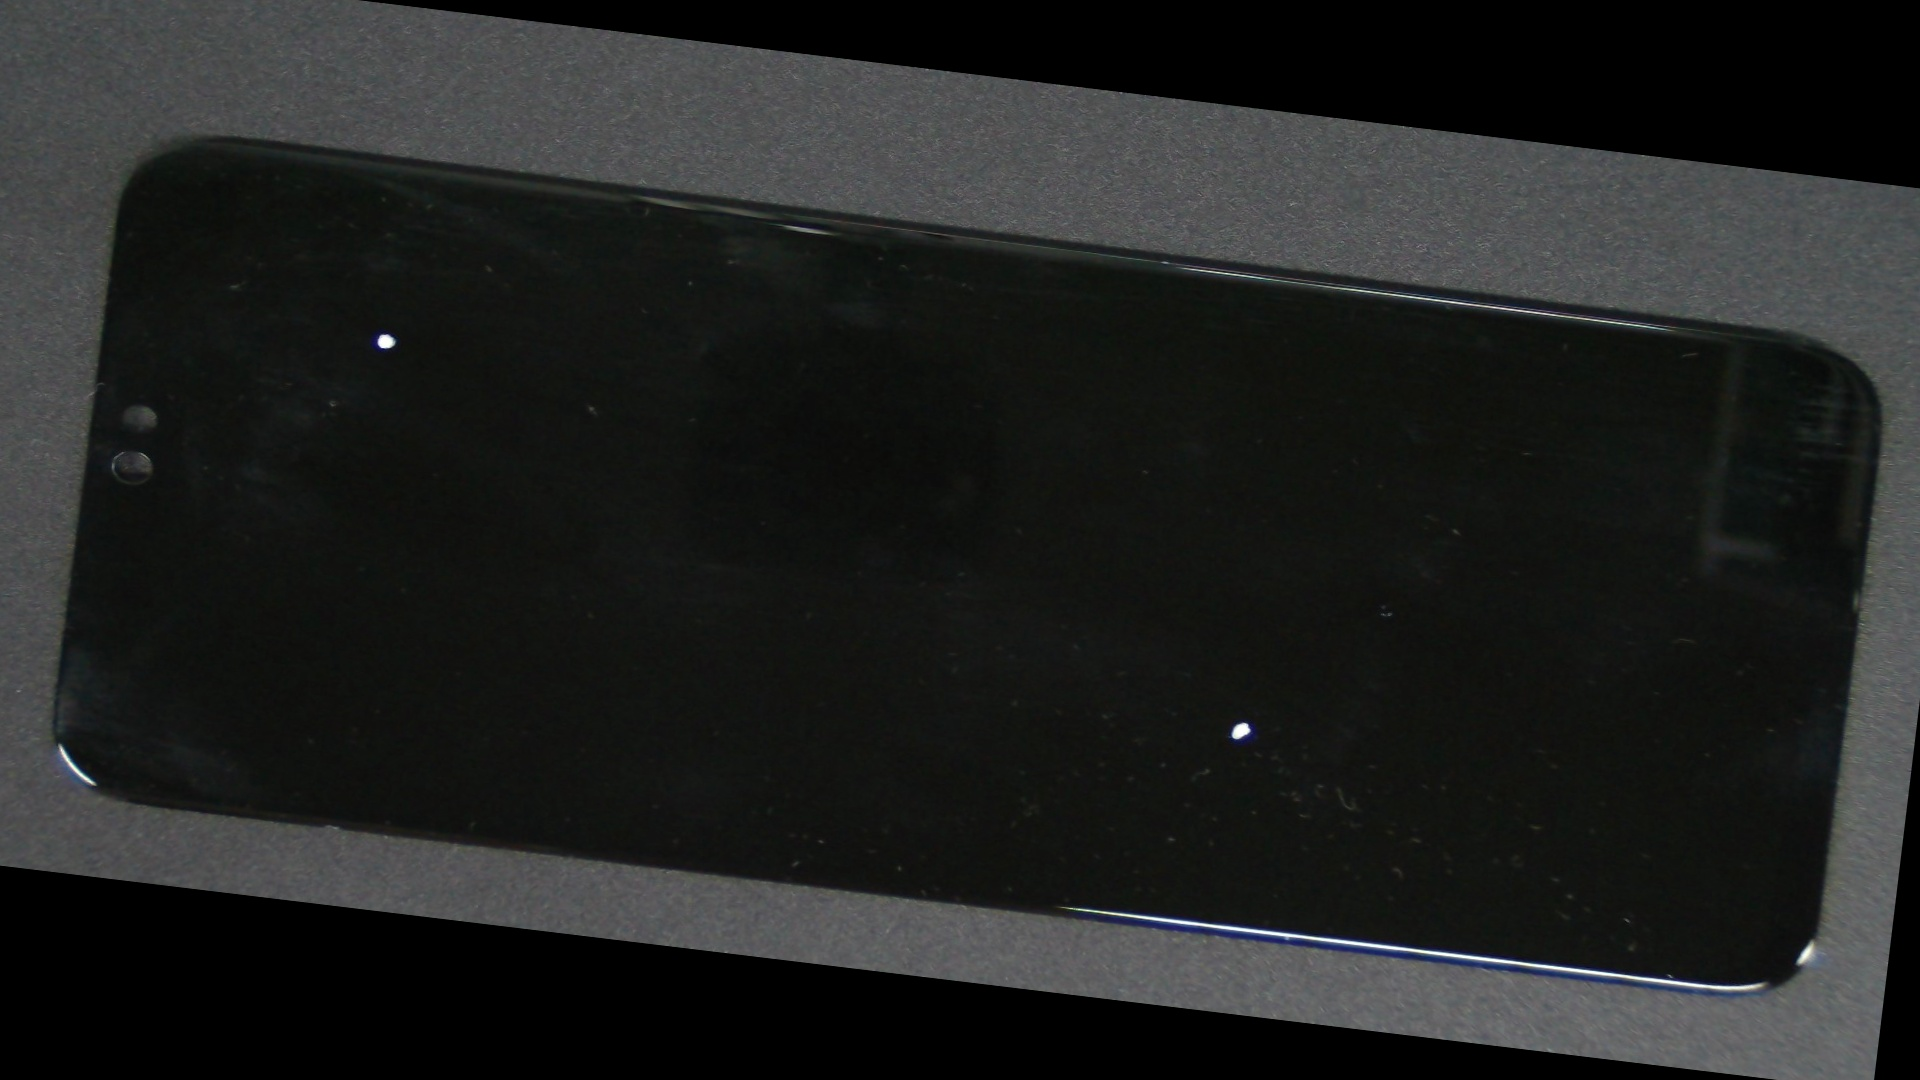oil: (549, 339, 1920, 1080), (153, 144, 620, 521)
